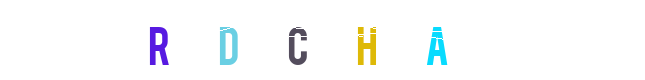A: (326, 0, 406, 80)
C: (283, 0, 363, 80)
D: (257, 0, 337, 80)
H: (293, 0, 373, 80)
R: (118, 0, 198, 80)
